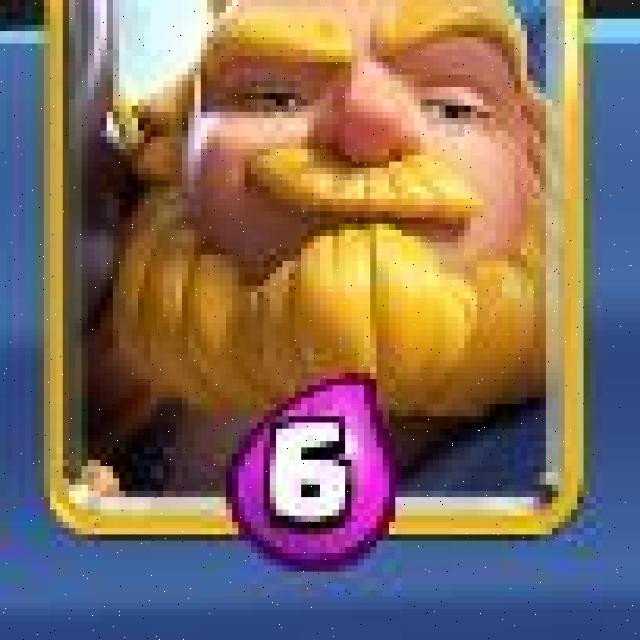Royal_Giant: (41, 0, 588, 539)
